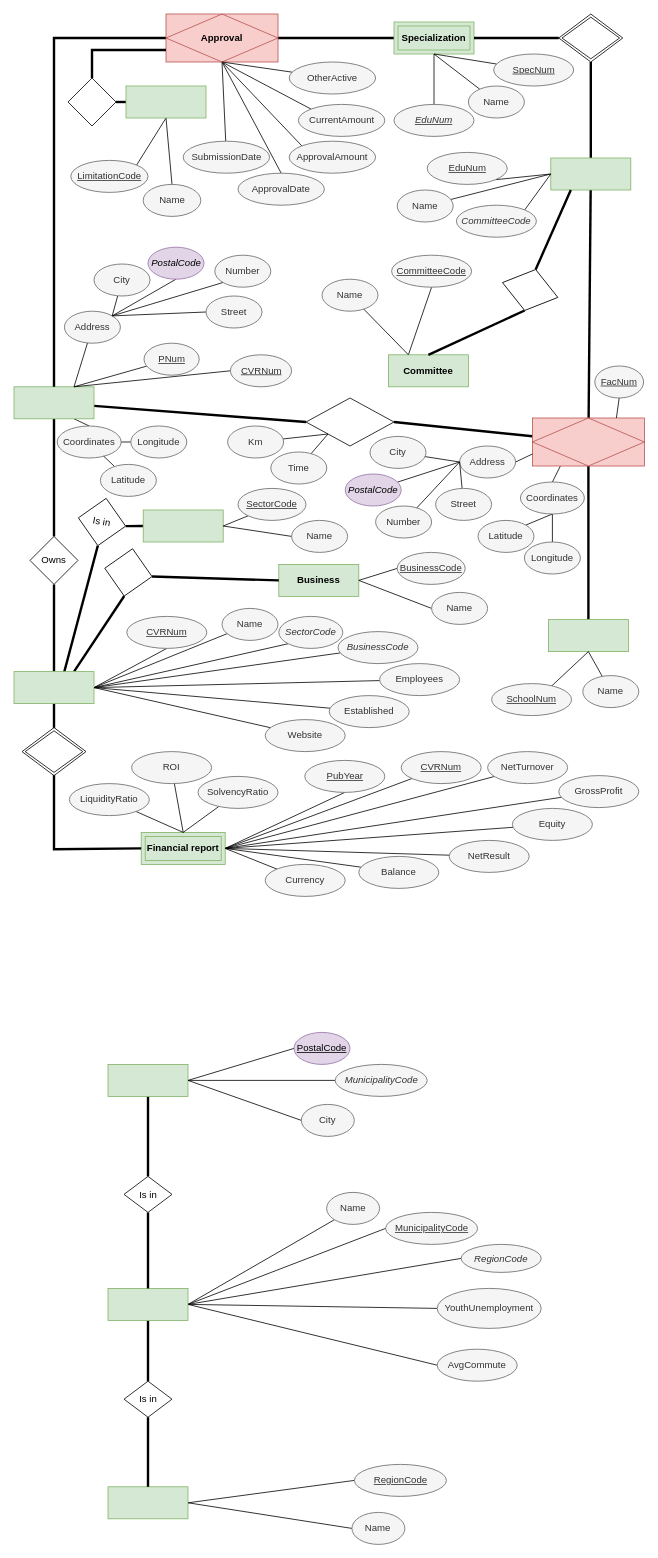
Image size: 658x1558. Some labels were removed from this diagram. Each missing label, with the centre of its shape:
Company: [53,687]
Contains: [590,37]
Distance: [349,421]
Education: [590,173]
Facility: [588,441]
Is: [128,572]
Limitation: [165,101]
Limits: [91,101]
Municipality: [147,1304]
Oversees: [529,289]
Postal Area: [147,1080]
Production unit: [53,402]
Publishes: [53,751]
Region: [147,1502]
School: [588,635]
Sector: [182,525]
